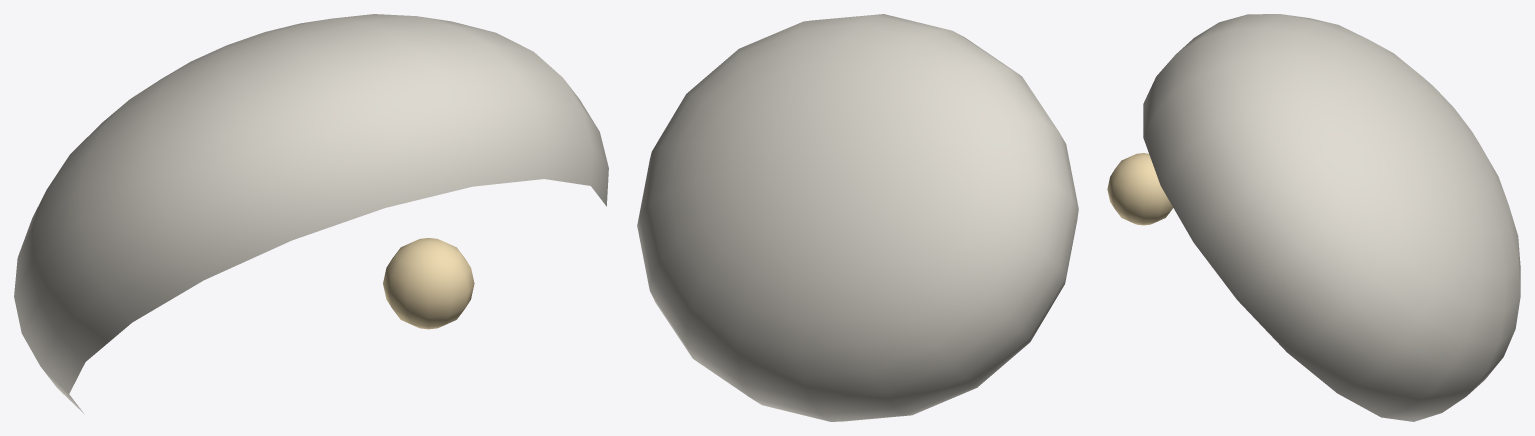
File: prop-shell.glb
The picture shows the model from 3 angles, left to right: view 1: azimuth 30°, elevation 25°; view 2: azimuth 150°, elevation 25°; view 3: azimuth 270°, elevation 25°; orthographic projection. The views are drawn at different scales.
Parts seen in each view (by area): view 1: shell; view 2: shell; view 3: shell.
Boxes of the visible parts, left/top/right/bottom form: shell: left=14, top=14, right=608, bottom=414; shell: left=637, top=14, right=1078, bottom=421; shell: left=1107, top=14, right=1520, bottom=421.
Bounding box in the file's own units: 0.616 × 0.4745 × 0.5129.
